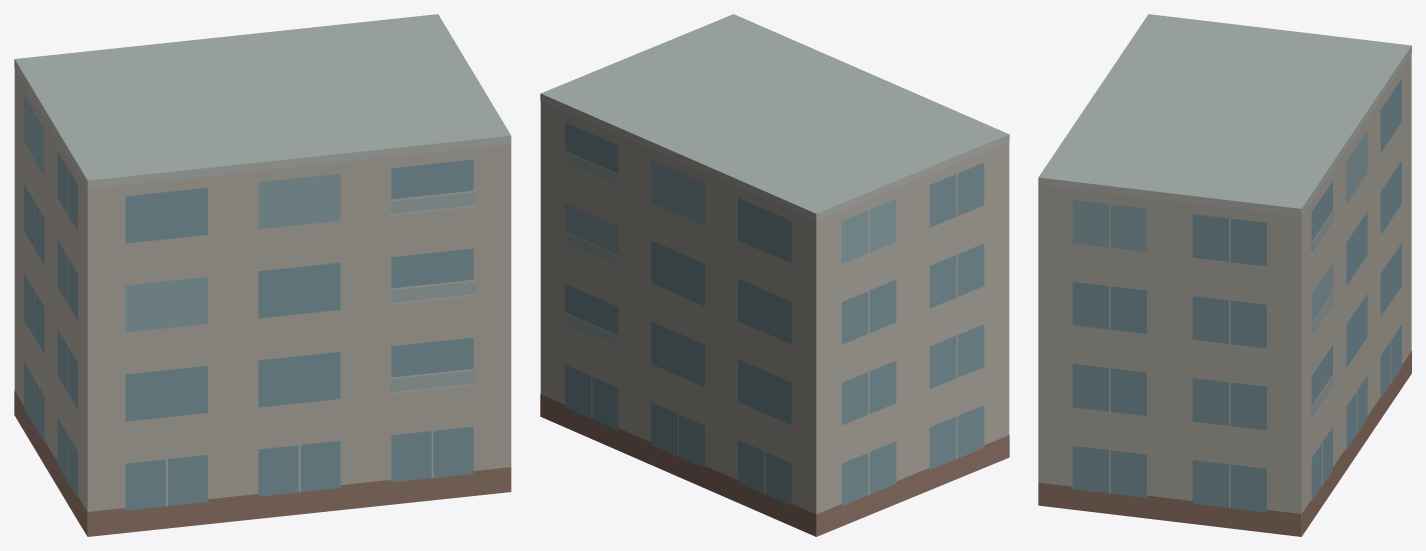
The model's file is survey-upis-33020027.glb.
3 renders of one model, left to right at view 1: azimuth 30°, elevation 25°; view 2: azimuth 150°, elevation 25°; view 3: azimuth 270°, elevation 25°, orthographic. The views are drawn at different scales.
Parts seen in each view (by area): view 1: survey-upis-33020027.tmp; view 2: survey-upis-33020027.tmp; view 3: survey-upis-33020027.tmp.
Part boxes in pixels (box(x1,y1,x2,y2)): survey-upis-33020027.tmp: box(14, 14, 511, 536); survey-upis-33020027.tmp: box(540, 14, 1009, 536); survey-upis-33020027.tmp: box(1038, 14, 1411, 536).
Bounding box in the file's own units: 13.52 × 10.6 × 10.95.
